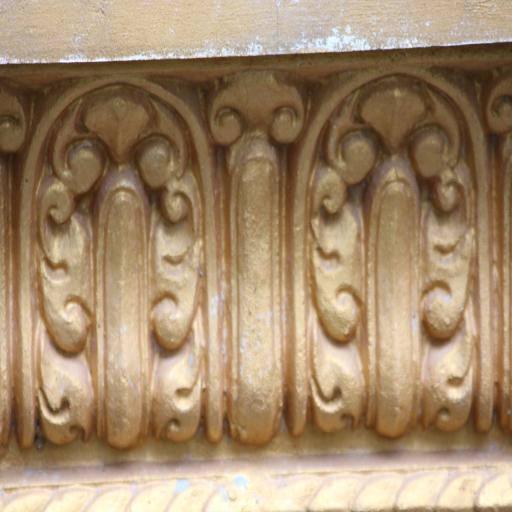la: (295, 72, 500, 454), (16, 73, 218, 457), (218, 73, 296, 454)
